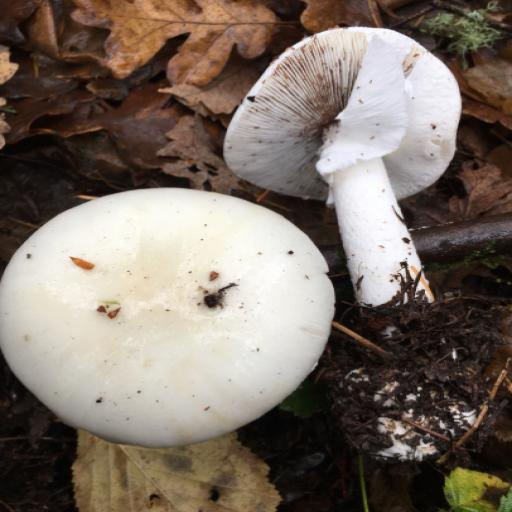Death Cap: (0, 144, 358, 481), (213, 20, 462, 320)
